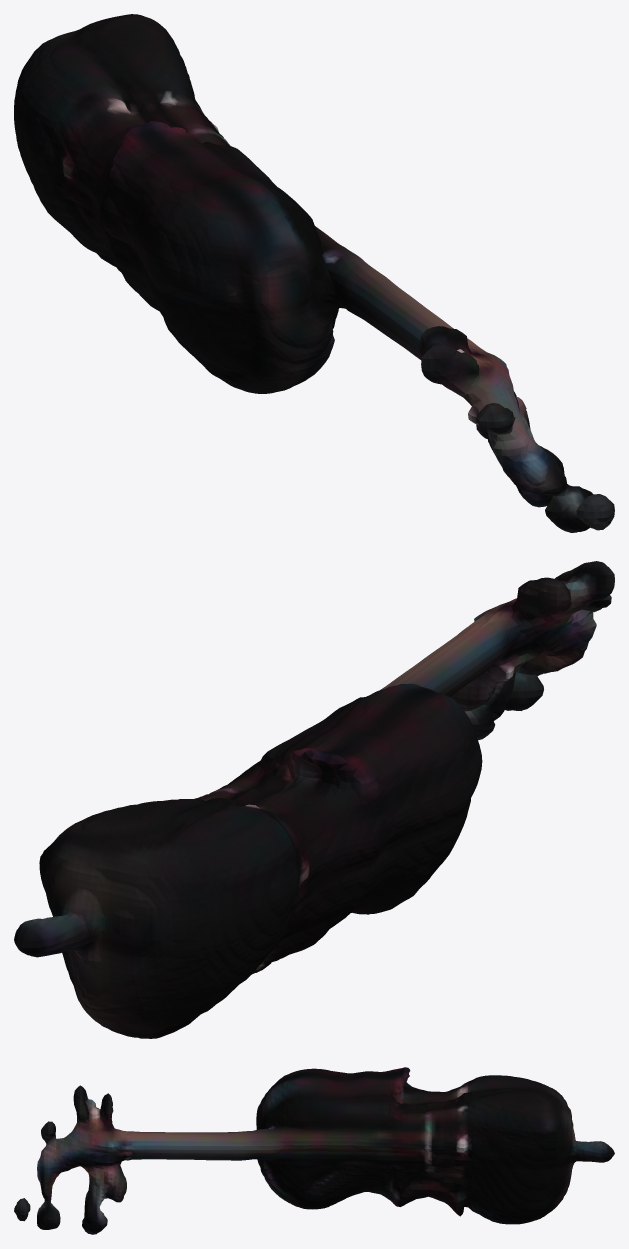
3 renders of one model, top to bottom at view 1: azimuth 30°, elevation 25°; view 2: azimuth 150°, elevation 25°; view 3: azimuth 270°, elevation 25°, orthographic. The views are drawn at different scales.
Bounding box in the file's own units: 0.2464 × 0.2473 × 1.03.
